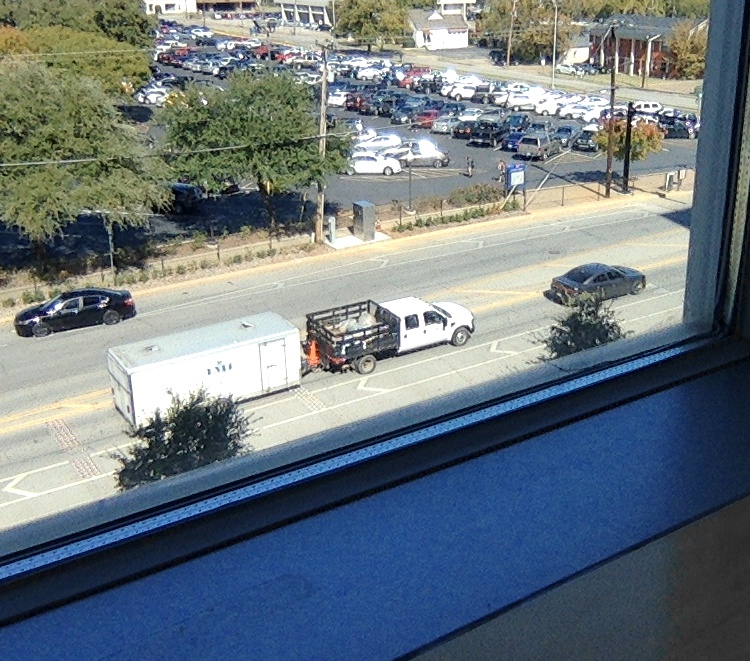car: (300, 300, 450, 379)
